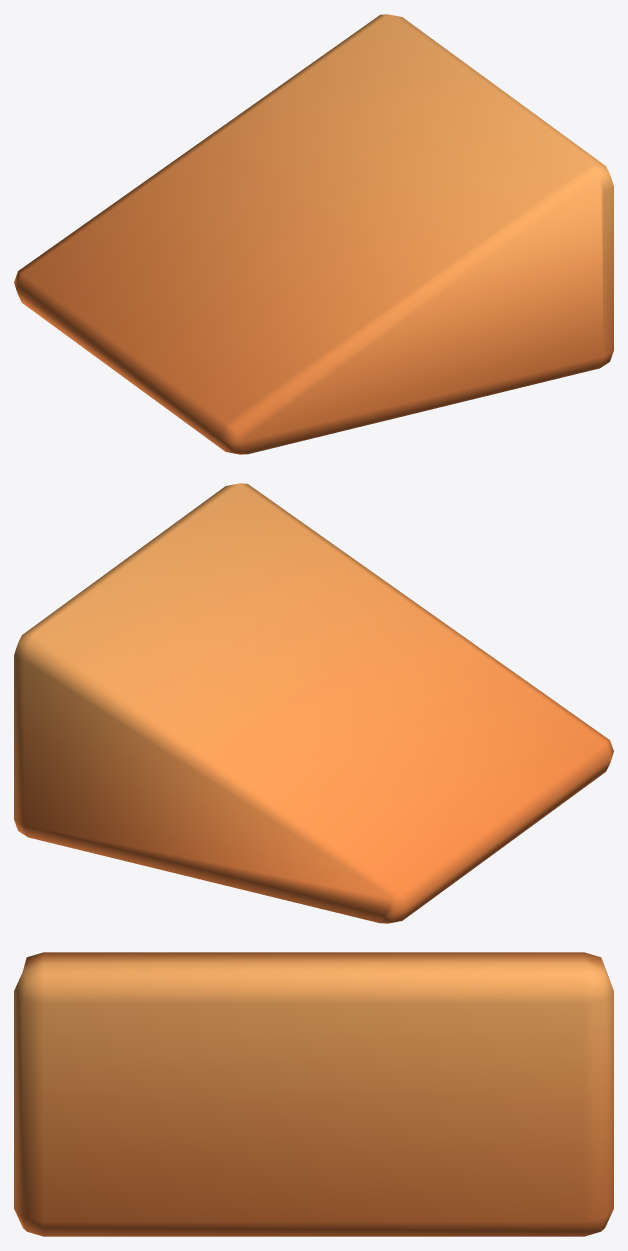
The model's file is 3D_Tile_Ground_Slope_02B.fbx.
3 renders of one model, top to bottom at view 1: azimuth 30°, elevation 25°; view 2: azimuth 150°, elevation 25°; view 3: azimuth 270°, elevation 25°, orthographic. The views are drawn at different scales.
Visible parts, largest first — view 1: 3D_Tile_Ground_Slope_02B; view 2: 3D_Tile_Ground_Slope_02B; view 3: 3D_Tile_Ground_Slope_02B.
Part boxes in pixels (x1,y1,x2,y2): 3D_Tile_Ground_Slope_02B: (14, 14, 613, 454); 3D_Tile_Ground_Slope_02B: (14, 483, 613, 923); 3D_Tile_Ground_Slope_02B: (14, 952, 613, 1236).
Size of the model in its own units: 200 by 100 by 200.
